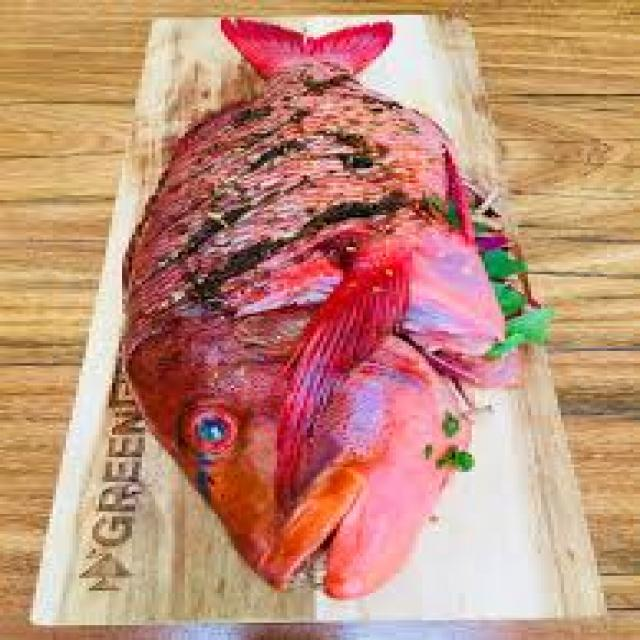northern-red-snapper: (138, 16, 526, 602)
